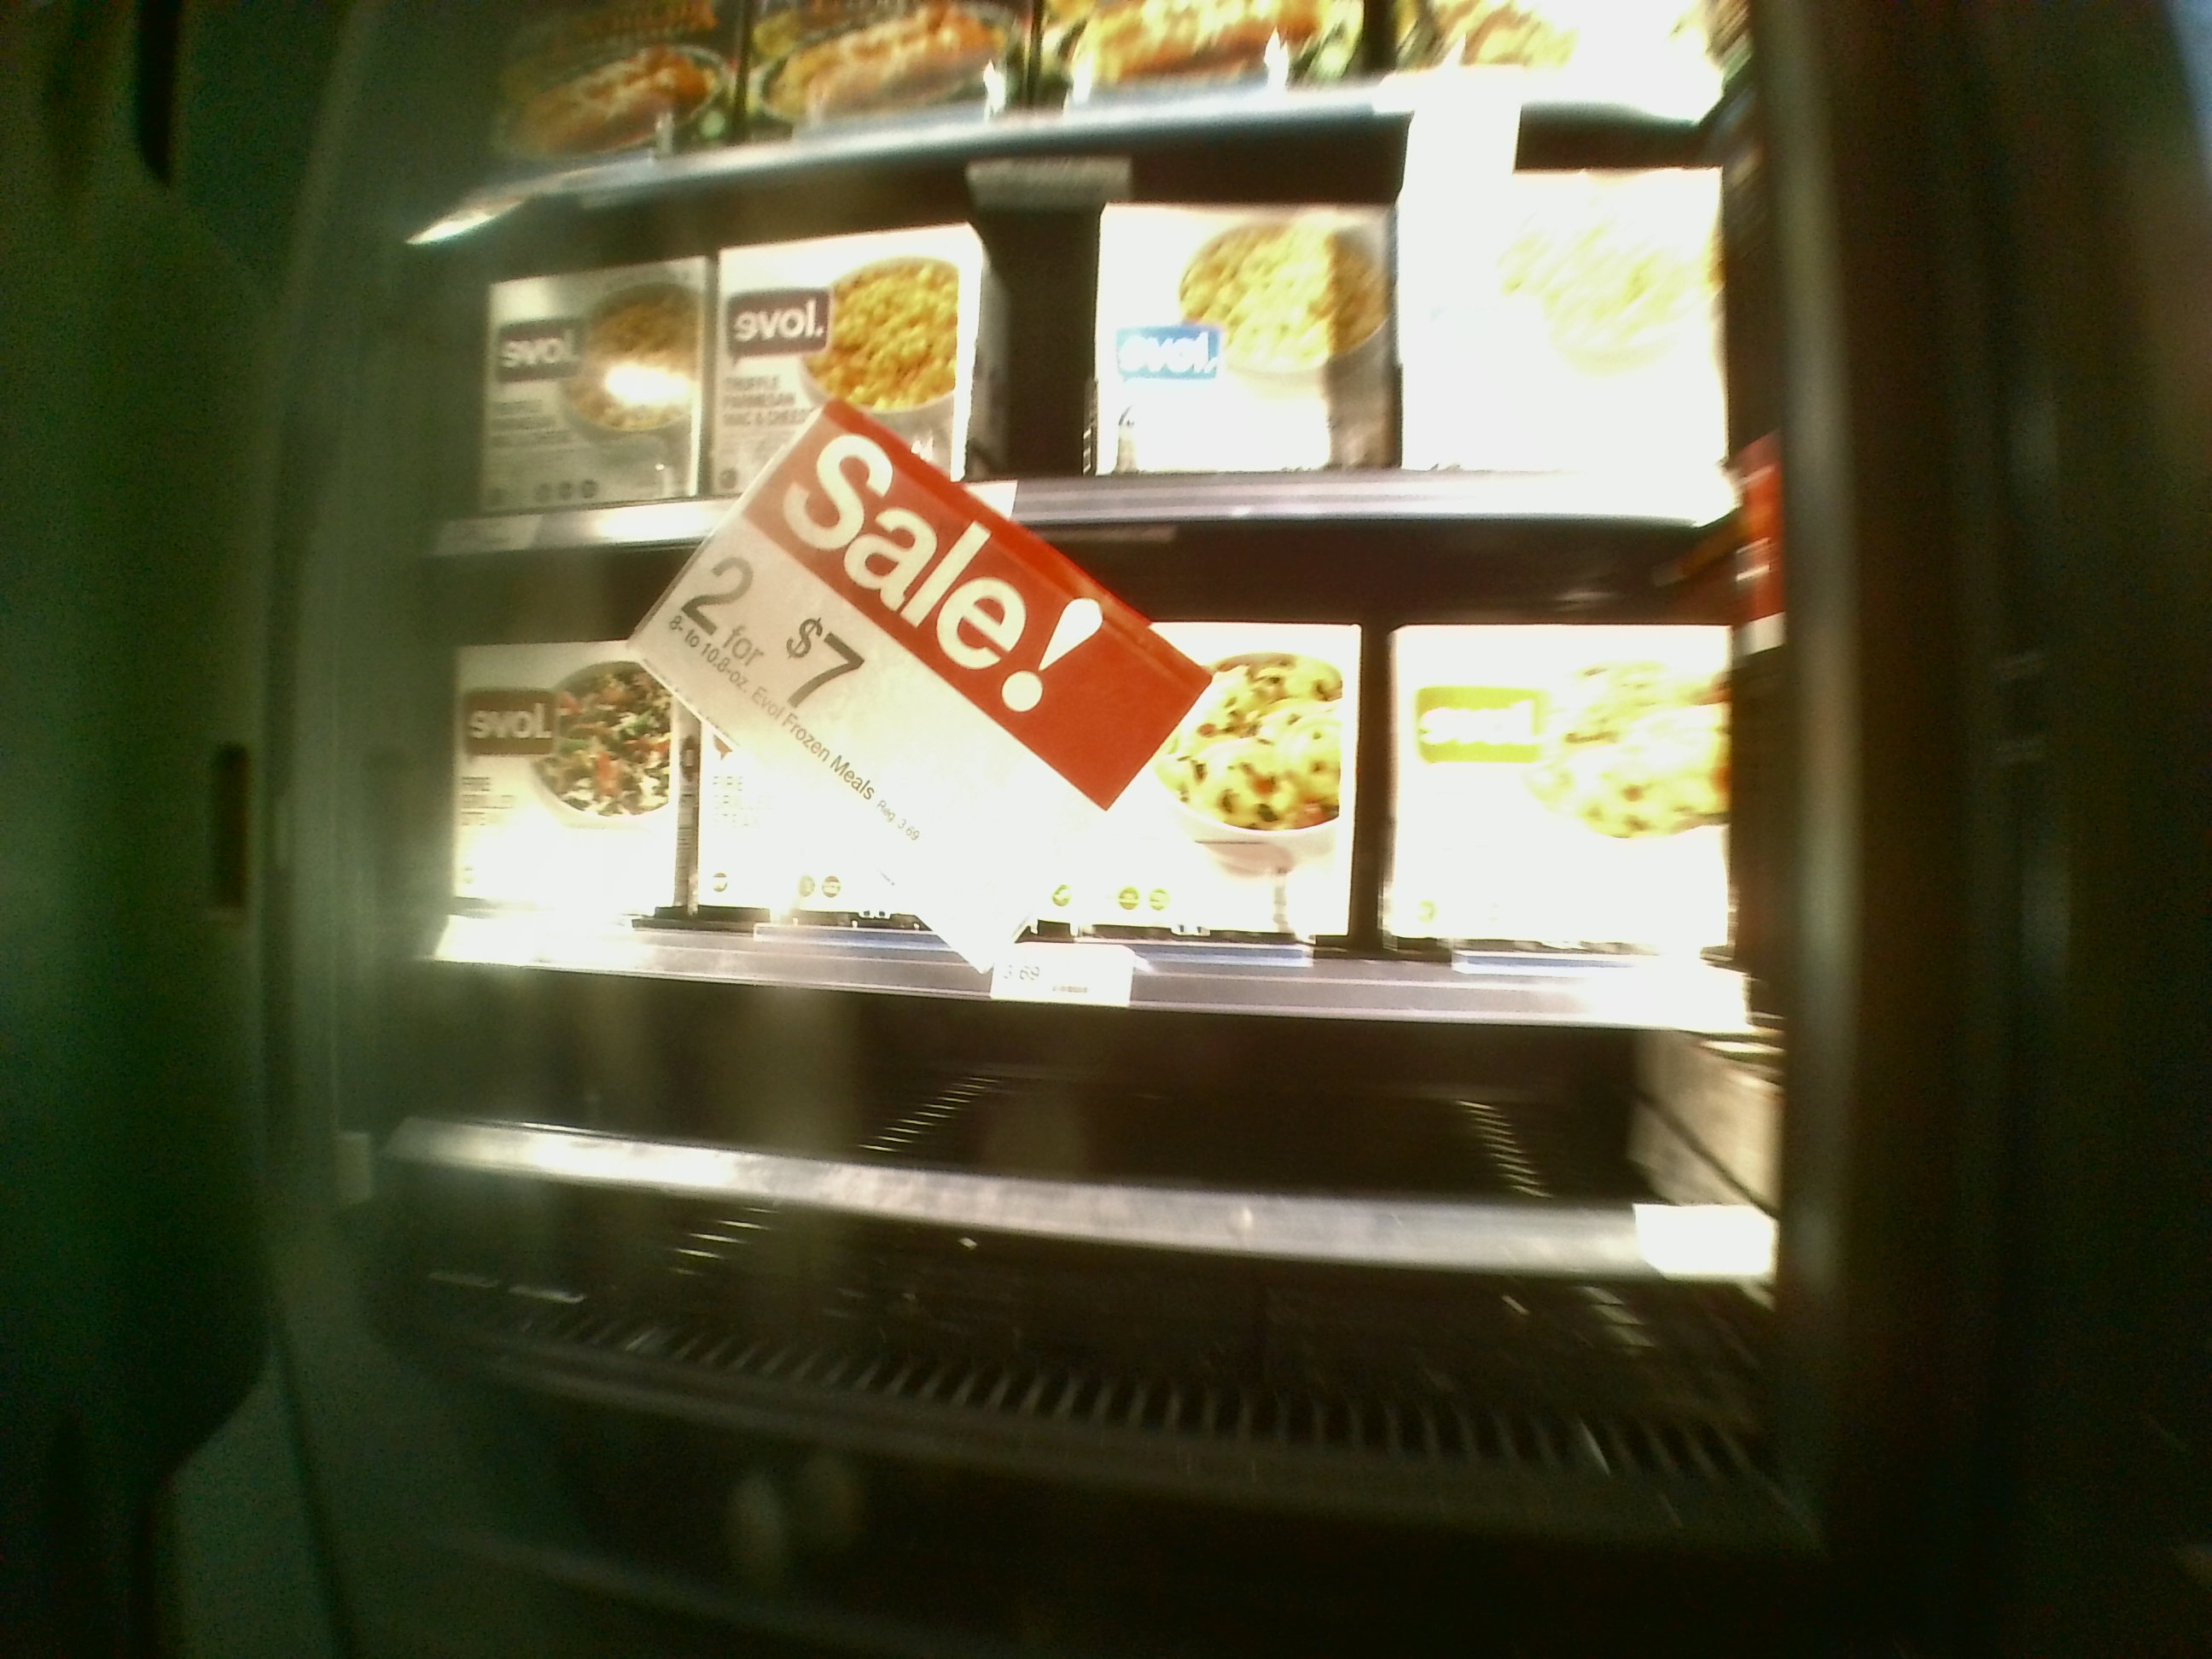shelf: (428, 533, 1747, 1035), (420, 999, 1763, 1429), (430, 152, 1747, 533)
